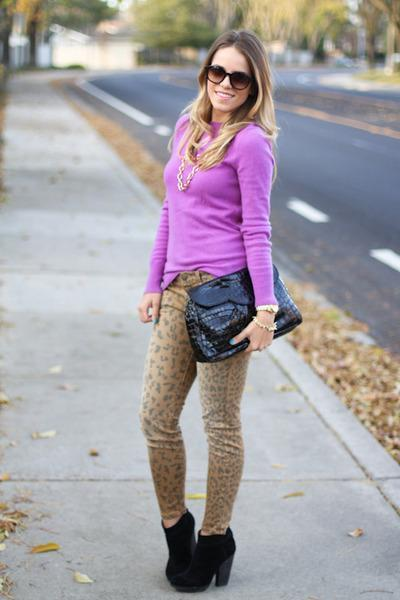bag: (185, 262, 302, 368)
pants: (142, 259, 250, 535)
shirt: (148, 115, 278, 312)
shoe: (163, 516, 235, 592)
sunglass: (199, 60, 228, 93)
